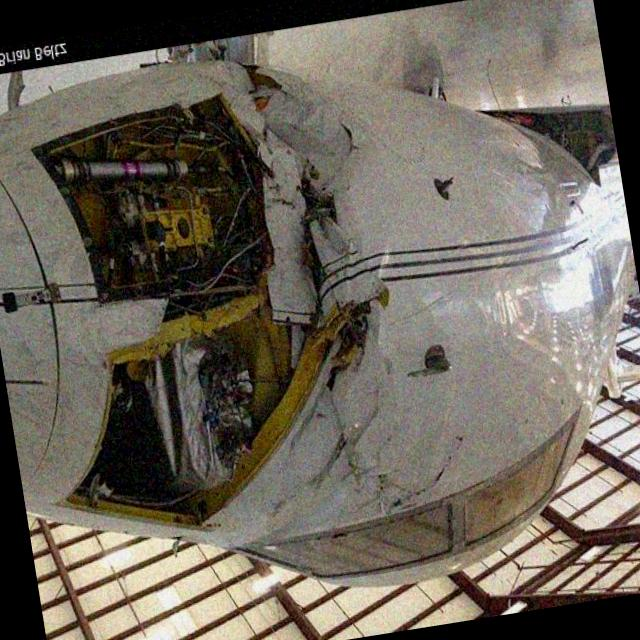crack: (379, 435, 472, 507), (312, 124, 368, 188)
dent: (375, 373, 467, 462), (268, 480, 350, 538), (381, 291, 437, 369)
